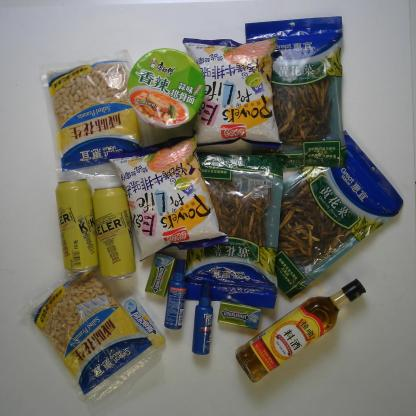Alcohol: (92, 184, 138, 282), (55, 178, 98, 274)
Candy: (120, 293, 165, 350)
Dried Food: (235, 131, 403, 301), (170, 148, 286, 312), (241, 14, 348, 171)
Dried Fruit: (29, 260, 157, 400), (42, 51, 153, 180)
Gum: (216, 301, 264, 331), (146, 251, 176, 297)
Instant Noodles: (127, 48, 206, 129)
Personal Hygiene: (162, 258, 188, 332), (191, 280, 214, 357)
Puffed Food: (108, 135, 230, 262), (181, 36, 283, 148)
Seasoner: (234, 278, 366, 384)
